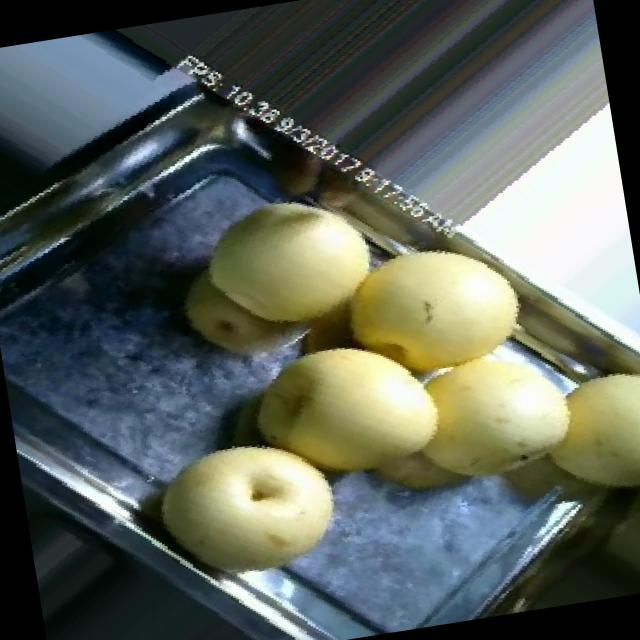Fruit: (224, 296, 476, 548), (149, 155, 422, 383), (126, 398, 368, 614), (308, 203, 548, 414), (519, 347, 640, 537)
